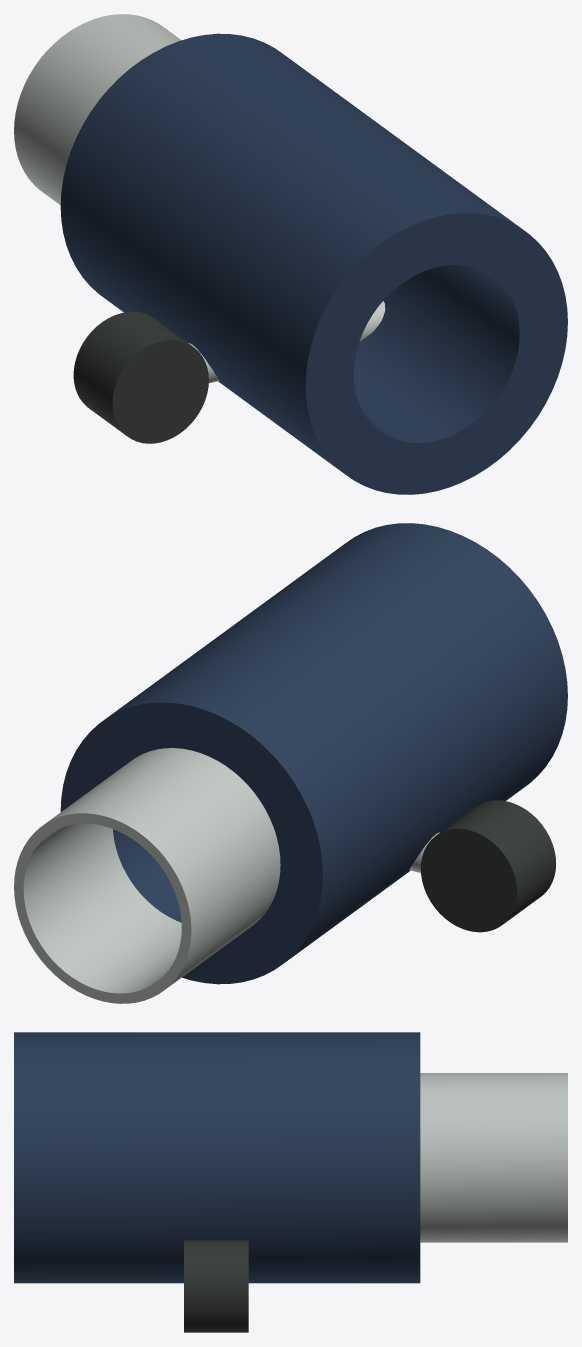
The model's file is planetarium-and-optical-observatory-focuser-assembly-881e885a__31854.glb.
3 renders of one model, top to bottom at view 1: azimuth 30°, elevation 25°; view 2: azimuth 150°, elevation 25°; view 3: azimuth 270°, elevation 25°, orthographic. The views are drawn at different scales.
Parts seen in each view (by area): view 1: focuser-assembly; view 2: focuser-assembly; view 3: focuser-assembly.
Part boxes in pixels (left/top/right/bottom): focuser-assembly: left=14, top=14, right=567, bottom=494; focuser-assembly: left=14, top=523, right=567, bottom=1003; focuser-assembly: left=14, top=1032, right=567, bottom=1332.
Size of the model in its own units: 0.23 by 0.136 by 0.3.
